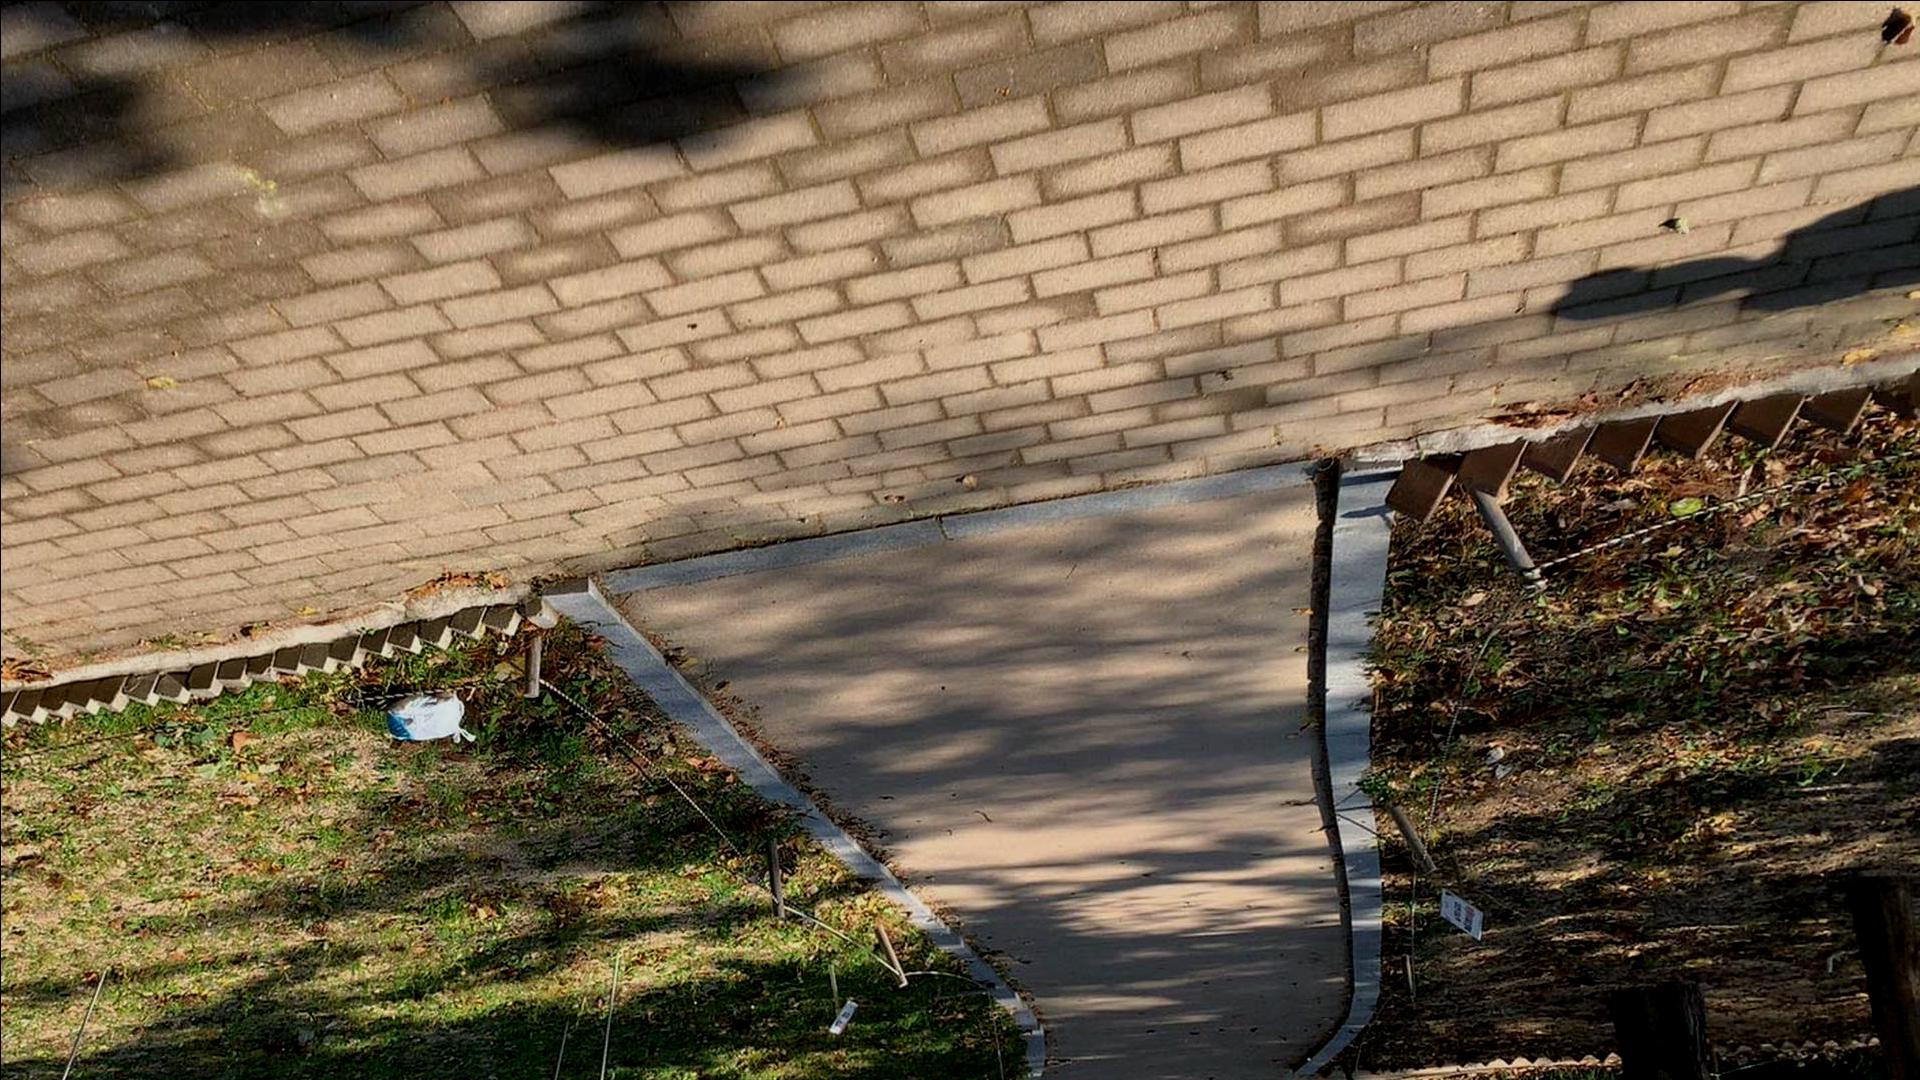white_bag: (382, 688, 481, 752)
